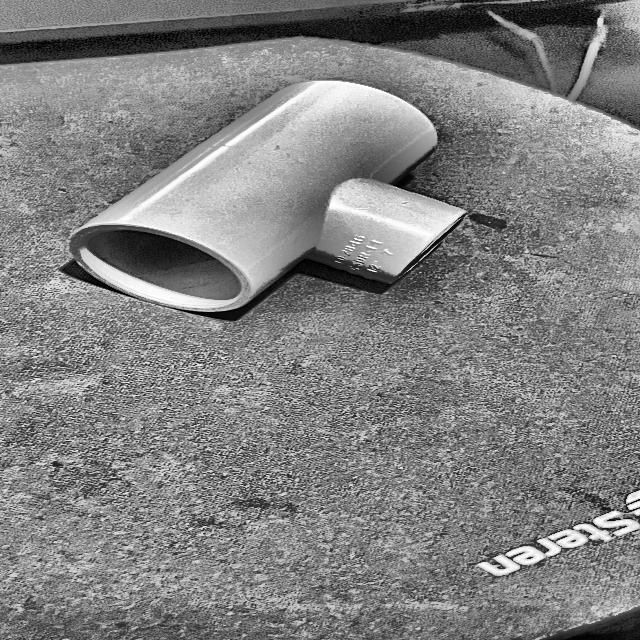EQUALTEE: (61, 80, 466, 322)
